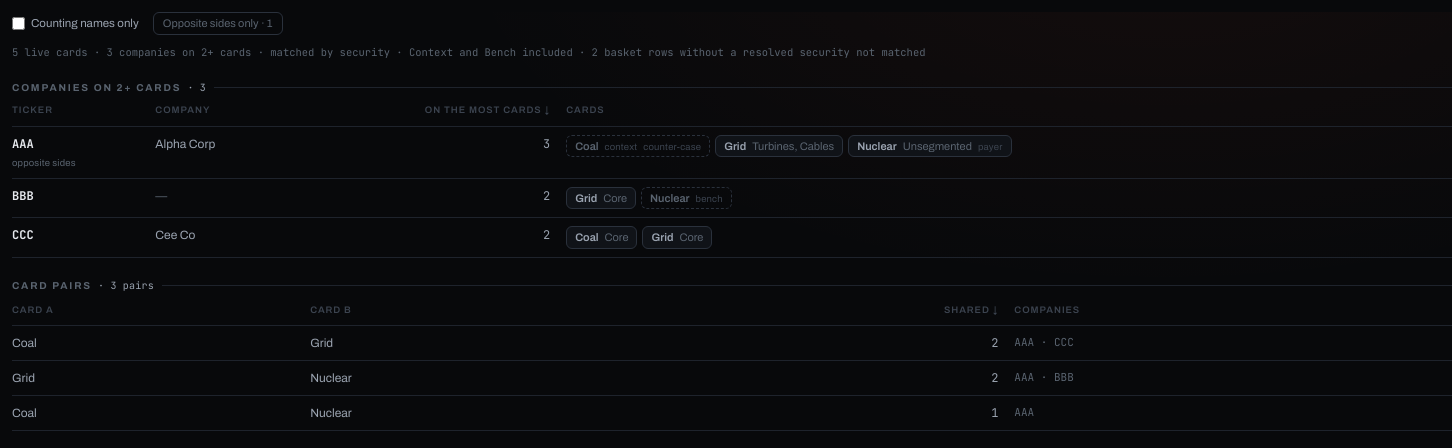
it: Shared Names — card pairs › clicking a pair narrows the table to its companies; clear brings them all back
Click the text "AAA · CCC" at (1233, 343), box [1014, 326, 1451, 360]
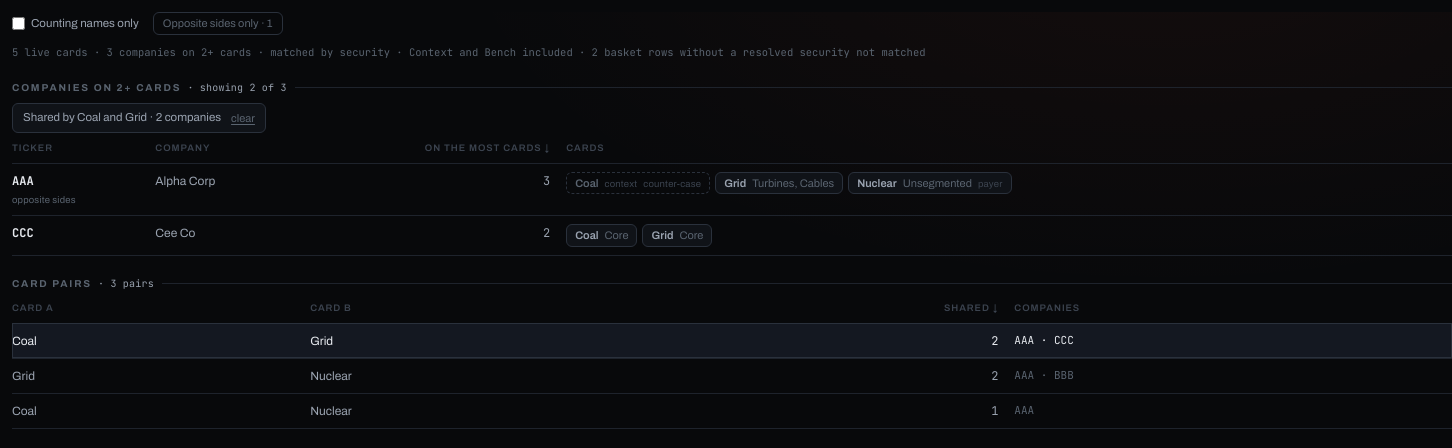
Result: the text "Shared by Coal and Grid · 2 companies" is shown at [23, 109, 221, 127]
Click the button "clear" at (243, 118), box [231, 110, 255, 126]
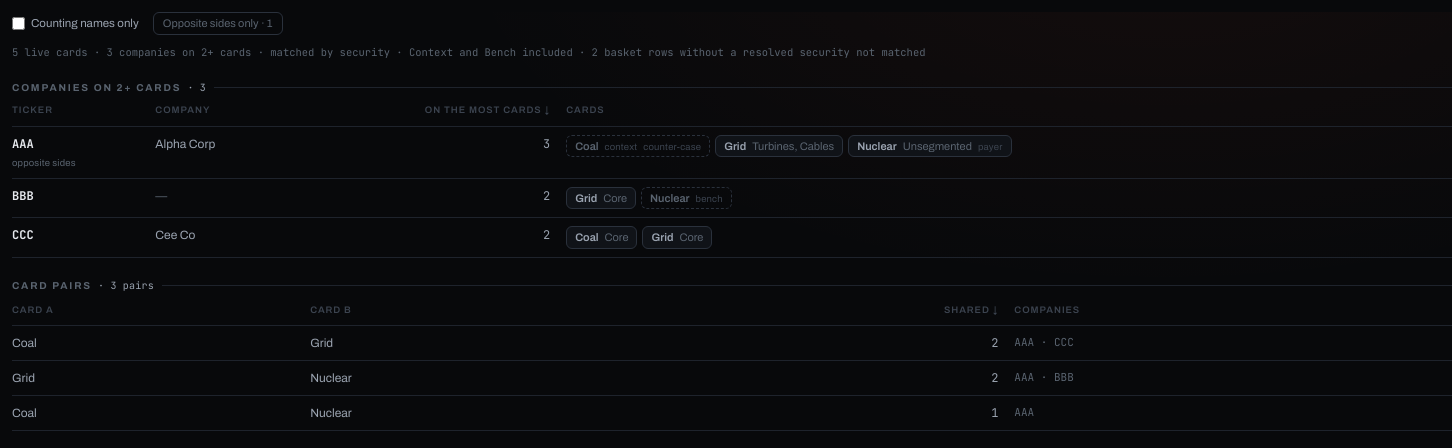
Result: the text "Shared by" is gone
